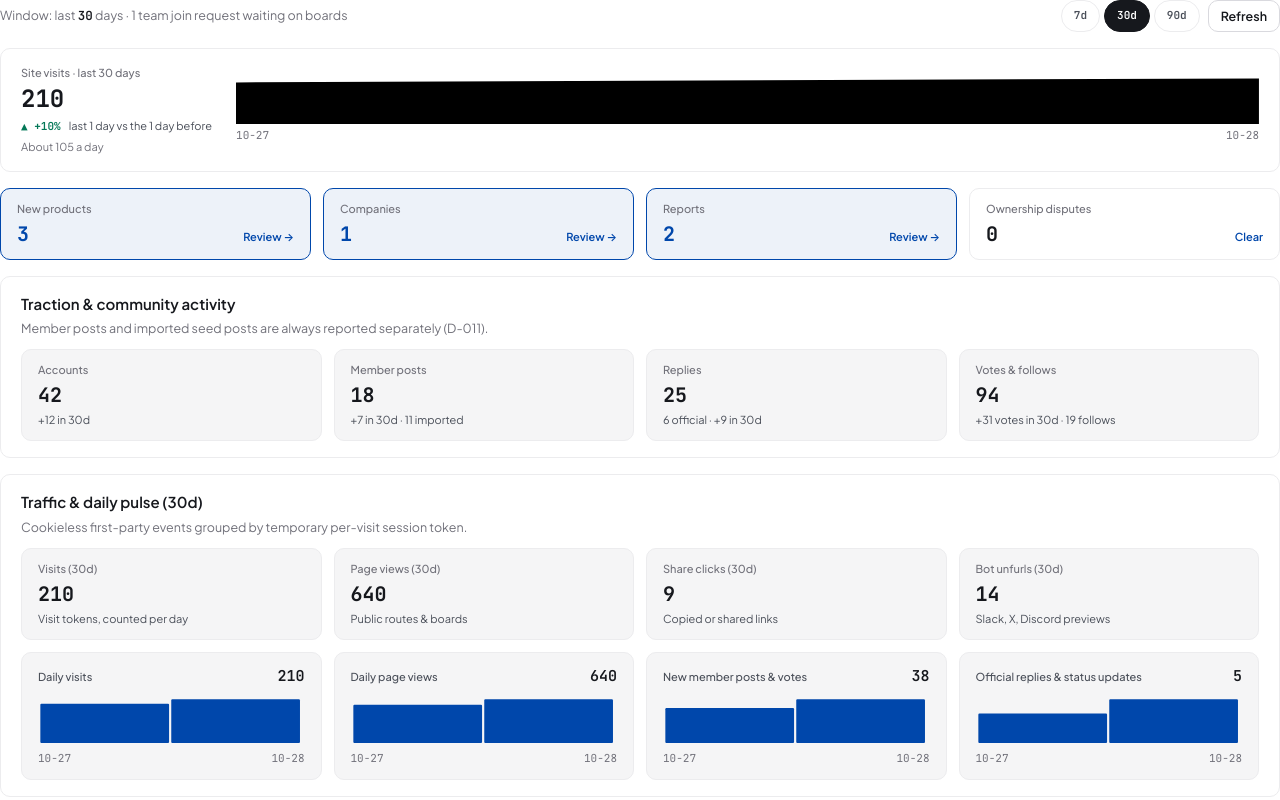
command centre (/admin) › labels unmet search demand as the last 30 days when 90d is selected (search terms are raw-only)
Click the button "90d" at (1177, 16), box [1154,0,1200,32]
(page scrolled)
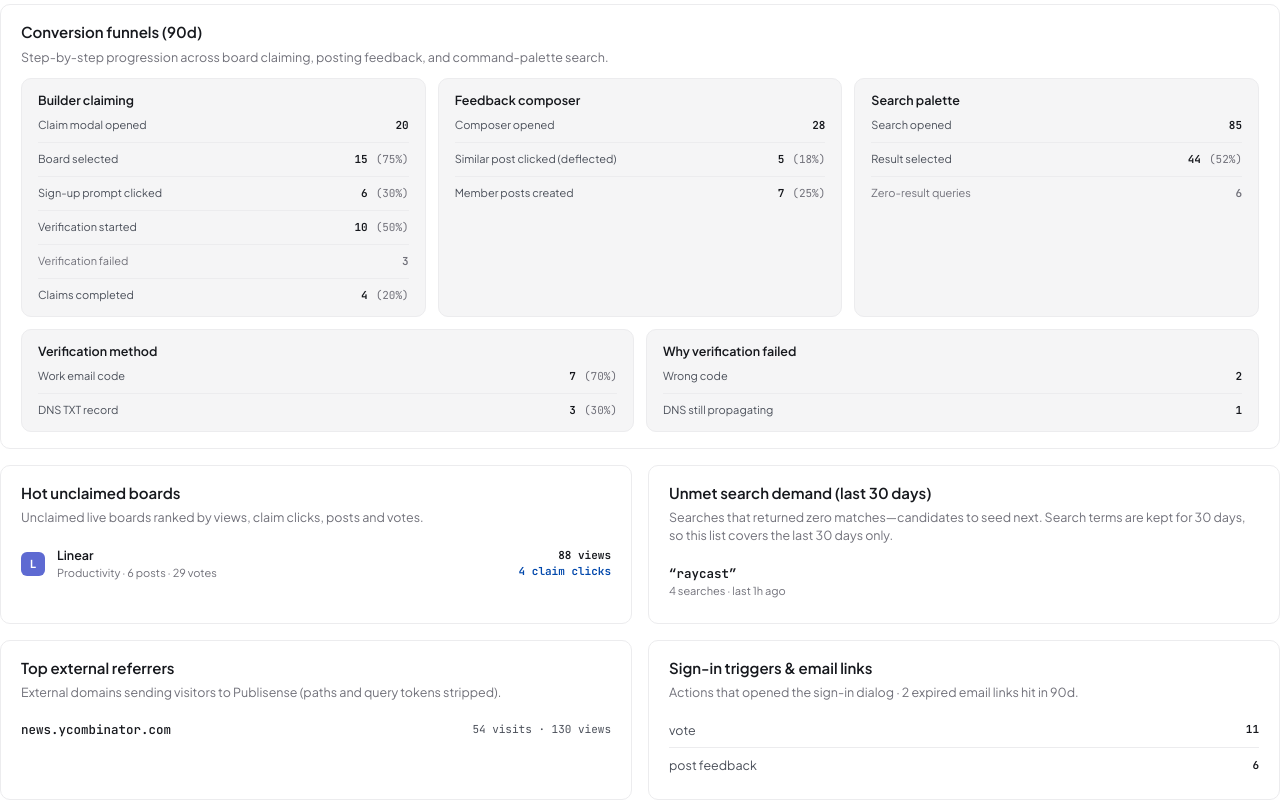
Now the heading "Unmet search demand (last 30 days)" is shown, box [669,483,932,502]
Now the text "Search terms are kept for 30 days" is shown, box [669,509,1245,544]
